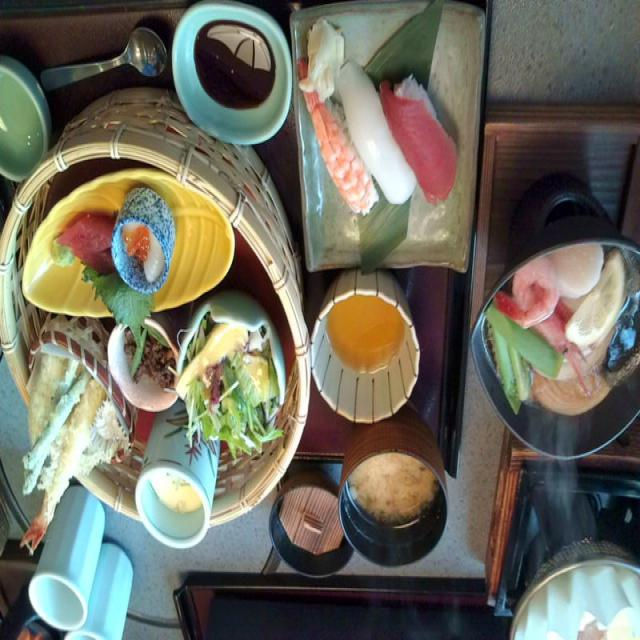Sushi: (291, 27, 468, 233)
